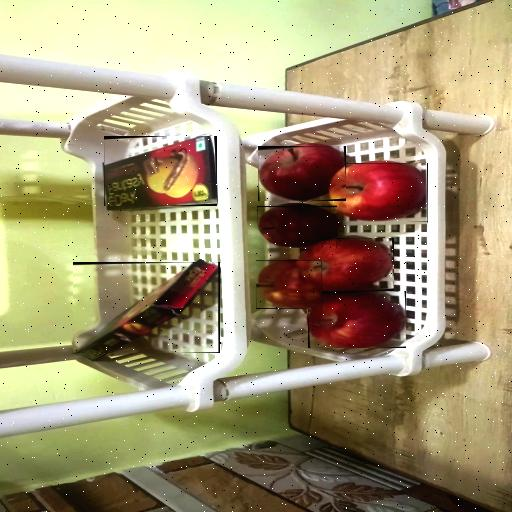Apple: (328, 164, 428, 224), (308, 291, 406, 348), (300, 238, 394, 292), (258, 146, 346, 201), (257, 206, 337, 248), (256, 260, 322, 309)
Choco Fills: (73, 262, 220, 353), (104, 136, 217, 206)
